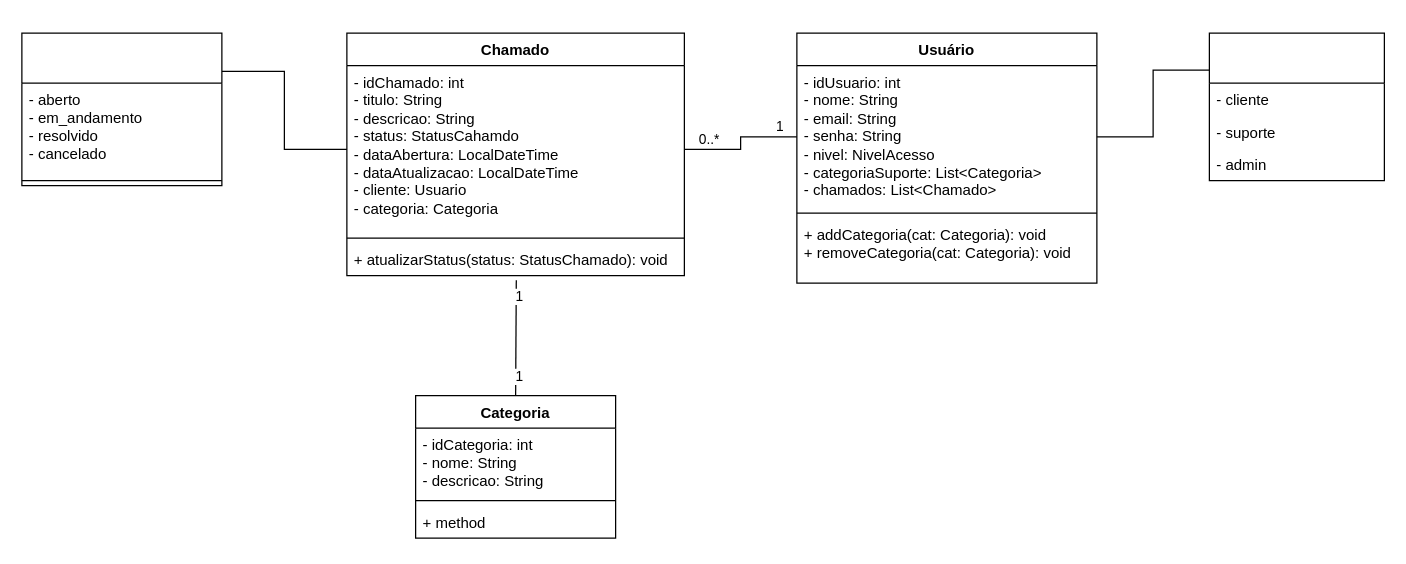
Image size: 1406x564. Some labels were removed from this diagram. The shapes that lost their labels are listed below. From the top down, each one's box as (x1, y1, x2, y2) in pixels, then its label:
(21, 32, 222, 186): <<enumeration>> StatusChamado
(1208, 32, 1384, 181): <<enumeration>> NivelAcesso
